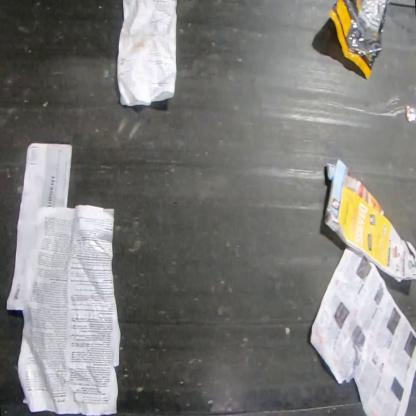cardboard: (322, 156, 415, 286)
soft_plastic: (330, 0, 388, 80)
